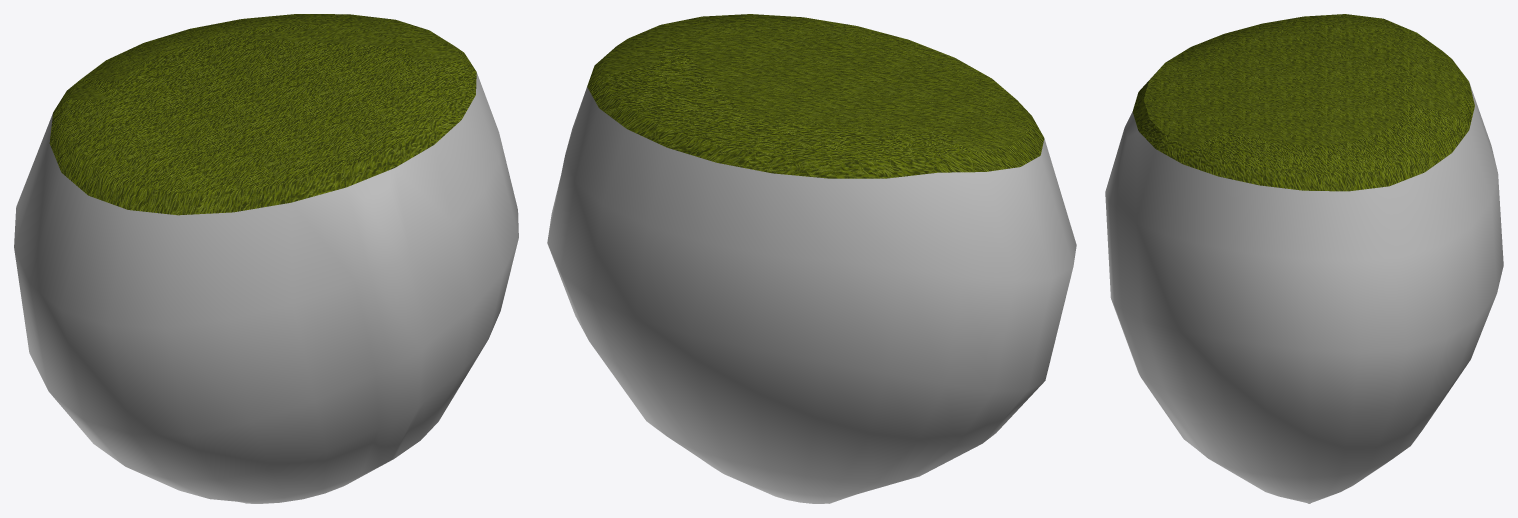
File: floating_island.fbx
3 renders of one model, left to right at view 1: azimuth 30°, elevation 25°; view 2: azimuth 150°, elevation 25°; view 3: azimuth 270°, elevation 25°, orthographic. The views are drawn at different scales.
Parts seen in each view (by area): view 1: Mesh; view 2: Mesh; view 3: Mesh.
Part boxes in pixels (x1,y1,x2,y2): Mesh: [14, 14, 518, 503]; Mesh: [547, 14, 1076, 503]; Mesh: [1105, 14, 1503, 503].
Size of the model in its own units: 926 by 782 by 710.
